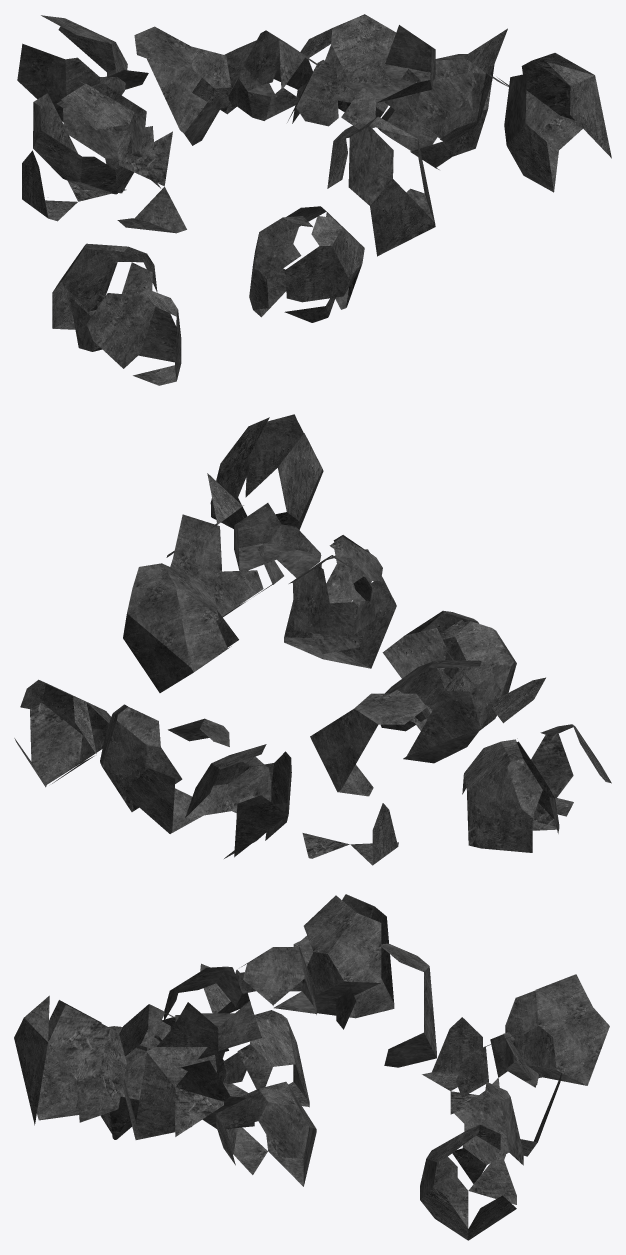
Rendered from Stone16.obj.
The picture shows the model from 3 angles, top to bottom: view 1: azimuth 30°, elevation 25°; view 2: azimuth 150°, elevation 25°; view 3: azimuth 270°, elevation 25°; orthographic projection. The views are drawn at different scales.
Visible parts, largest first — view 1: Object015; view 2: Object015; view 3: Object015.
Part boxes in pixels (box(x1,y1,x2,y2)): Object015: box(17, 14, 611, 385); Object015: box(14, 414, 611, 865); Object015: box(14, 894, 609, 1240).
Size of the model in its own units: 384 by 223 by 445.
Materials: 1 (1 with a texture image).
